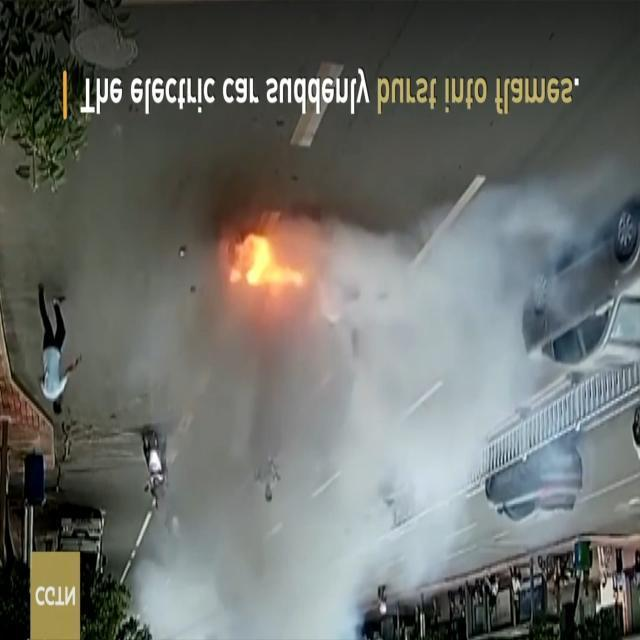fire: (218, 222, 311, 309)
